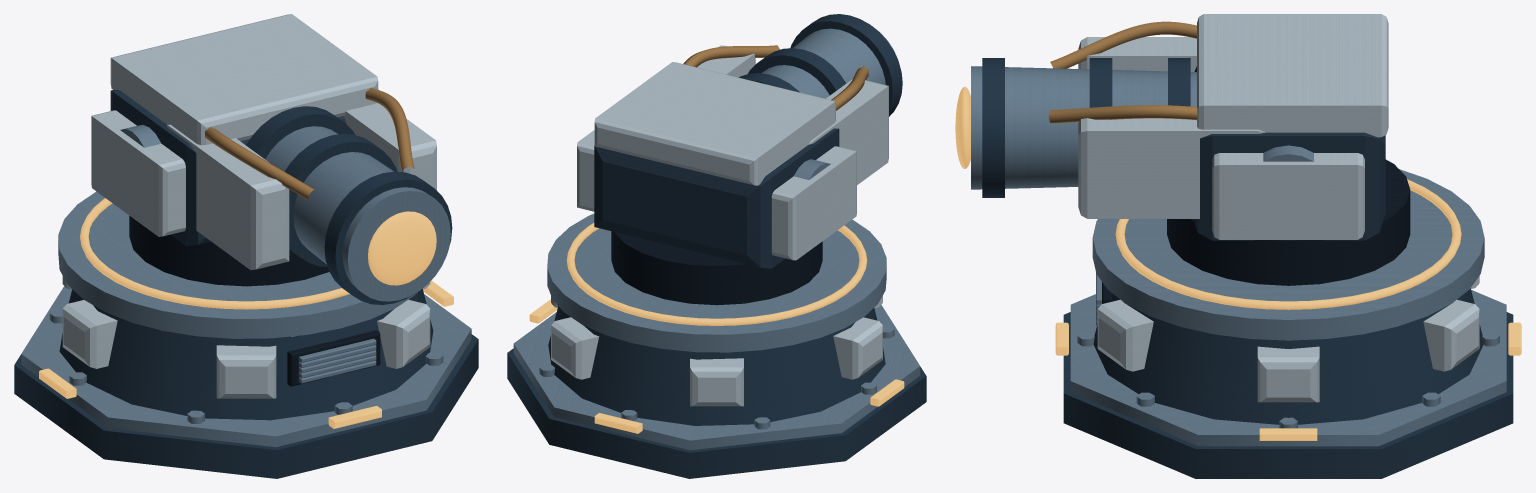
The model's file is cannon.glb.
The picture shows the model from 3 angles, left to right: view 1: azimuth 30°, elevation 25°; view 2: azimuth 150°, elevation 25°; view 3: azimuth 270°, elevation 25°; orthographic projection. The views are drawn at different scales.
Visible parts, largest first — view 1: Ceramic titanium armor (×3), Brushed titanium (×3), Graphite composite (×3), Carbon machinery, Status light (×2), Model component, Copper heat exchanger; view 2: Graphite composite (×3), Ceramic titanium armor (×3), Brushed titanium (×3), Carbon machinery, Status light (×2), Copper heat exchanger; view 3: Ceramic titanium armor (×3), Brushed titanium (×3), Graphite composite (×3), Carbon machinery, Status light (×2), Copper heat exchanger, Model component.
Boxes of the visible parts, bbox=[...] form: Ceramic titanium armor (×3): bbox=[62, 14, 436, 398]; Brushed titanium (×3): bbox=[21, 124, 471, 447]; Graphite composite (×3): bbox=[14, 90, 478, 478]; Carbon machinery: bbox=[129, 216, 380, 386]; Status light (×2): bbox=[39, 198, 453, 428]; Model component: bbox=[368, 211, 436, 285]; Copper heat exchanger: bbox=[205, 88, 414, 199]; Graphite composite (×3): bbox=[507, 14, 926, 478]; Ceramic titanium armor (×3): bbox=[551, 45, 888, 406]; Brushed titanium (×3): bbox=[513, 27, 920, 450]; Carbon machinery: bbox=[611, 231, 822, 305]; Status light (×2): bbox=[529, 223, 904, 433]; Copper heat exchanger: bbox=[683, 45, 868, 110]; Ceramic titanium armor (×3): bbox=[1078, 14, 1479, 402]; Brushed titanium (×3): bbox=[971, 66, 1506, 446]; Graphite composite (×3): bbox=[982, 58, 1513, 478]; Carbon machinery: bbox=[1102, 159, 1410, 303]; Status light (×2): bbox=[1055, 179, 1521, 440]; Copper heat exchanger: bbox=[1048, 21, 1197, 123]; Model component: bbox=[955, 87, 970, 168].
Bounding box in the file's own units: 2.26 × 1.73 × 2.75.
Materials: 7 (6 with a texture image).
